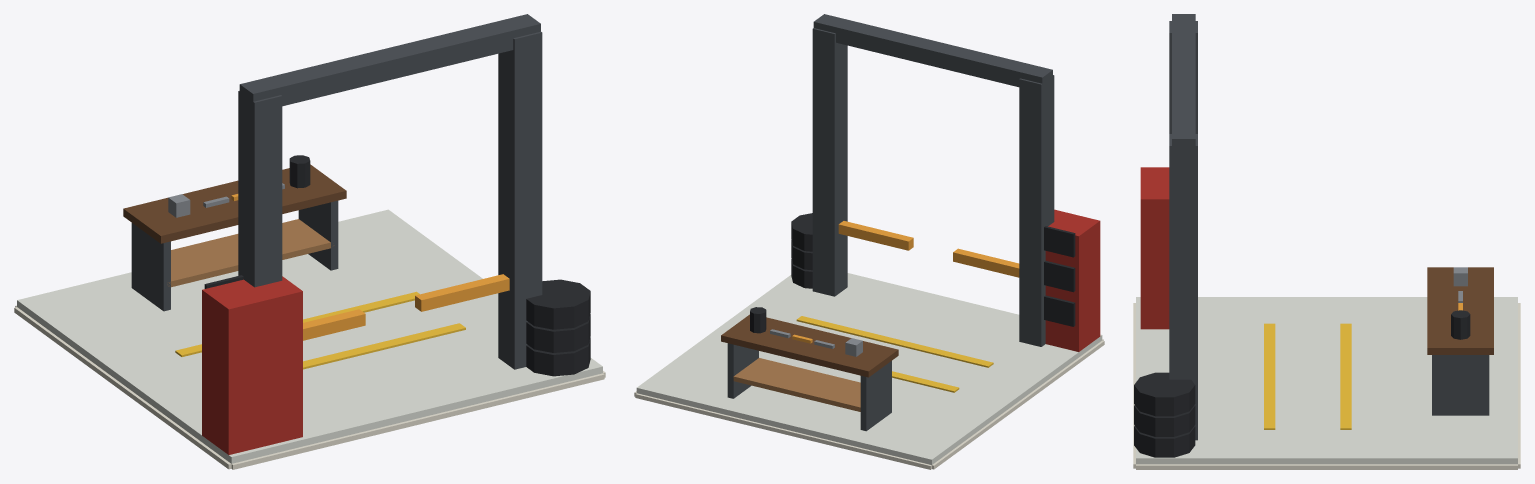
The model's file is interior.garage.glb.
3 renders of one model, left to right at view 1: azimuth 30°, elevation 25°; view 2: azimuth 150°, elevation 25°; view 3: azimuth 270°, elevation 25°, orthographic. The views are drawn at different scales.
Visible parts, largest first — view 1: interior.garage; view 2: interior.garage; view 3: interior.garage.
Boxes of the visible parts, bbox=[...] form: interior.garage: bbox=[14, 14, 605, 469]; interior.garage: bbox=[634, 14, 1104, 469]; interior.garage: bbox=[1133, 14, 1520, 469].
Bounding box in the file's own units: 4.06 × 3.6 × 4.06.
